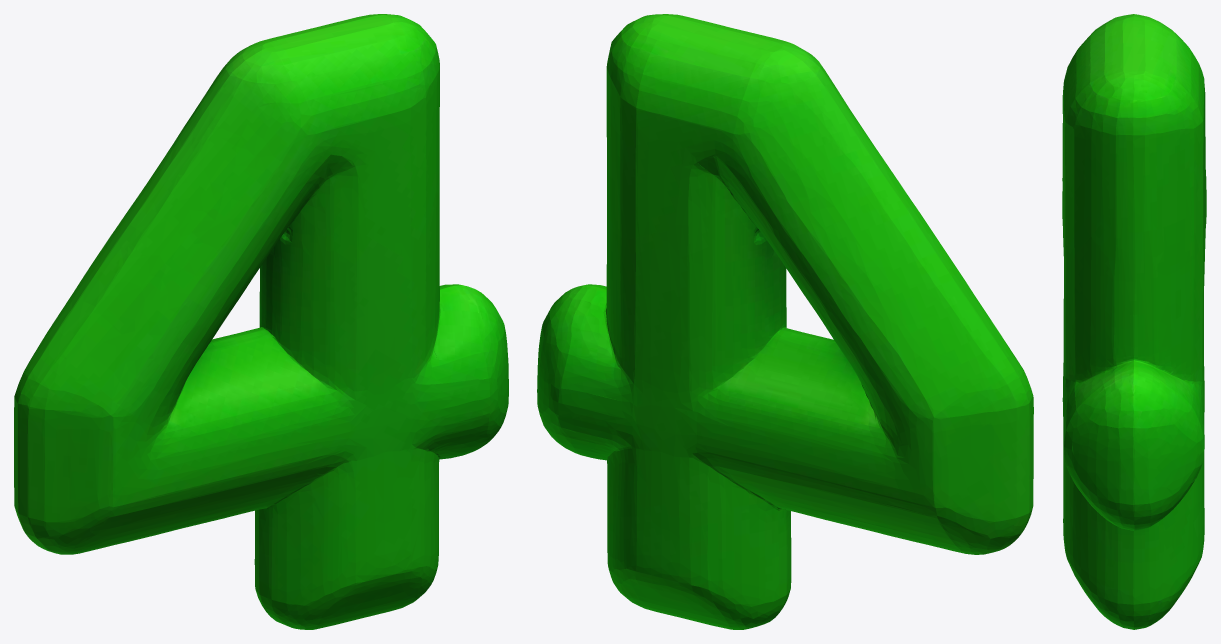
3 views of the same model, side by side, from view 1: azimuth 30°, elevation 25°; view 2: azimuth 150°, elevation 25°; view 3: azimuth 270°, elevation 25° (orthographic). The views are drawn at different scales.
Visible parts, largest first — view 1: geometry_0; view 2: geometry_0; view 3: geometry_0.
Boxes of the visible parts, box(x1,y1,x2,y2) form: geometry_0: box(14, 14, 508, 629); geometry_0: box(537, 14, 1033, 629); geometry_0: box(1062, 14, 1206, 629).
Bounding box in the file's own units: 0.8648 × 0.9999 × 0.2371.
Materials: 1 (1 with a texture image).
